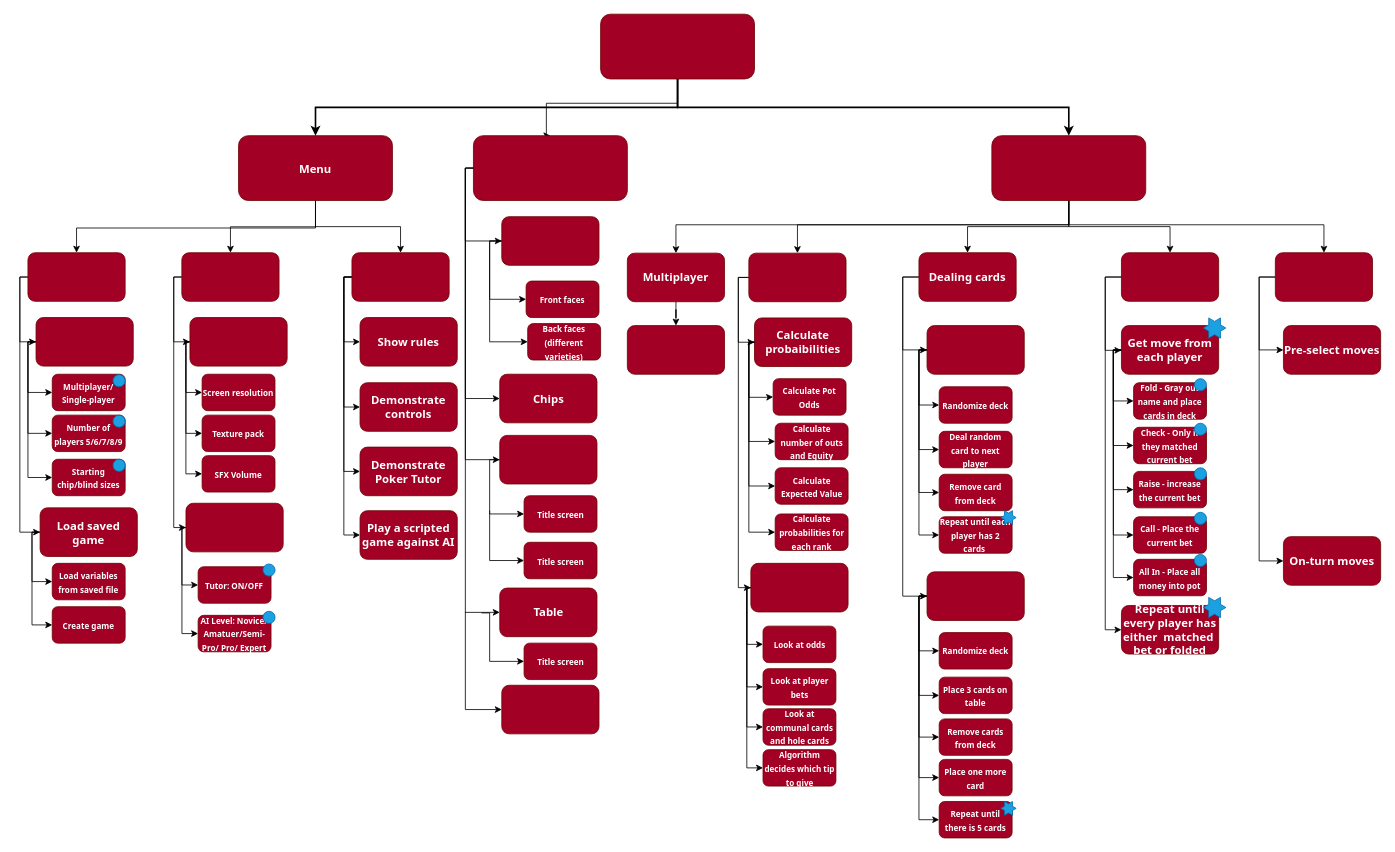
The diagram is 1395 pixels wide and 852 high, and some of its shapes have lost their labels. The shapes that lost their labels are listed below. From the top down, each one's centre as x and y in pixels, then its label:
point (677, 46): Poker
point (550, 167): Entities
point (1068, 167): Gameplay
point (550, 240): Cards
point (76, 276): Play
point (230, 276): Settings
point (400, 276): Tutorial
point (797, 277): Poker Tutor
point (1170, 276): Placing bets
point (1324, 276): Controls
point (84, 341): Create New Game
point (238, 341): General
point (676, 349): Server
point (975, 349): Deal 2 cards to each player
point (548, 459): Background
point (234, 527): Assists
point (799, 587): Suggest tips
point (975, 595): Place community cards
point (550, 709): Buttons
